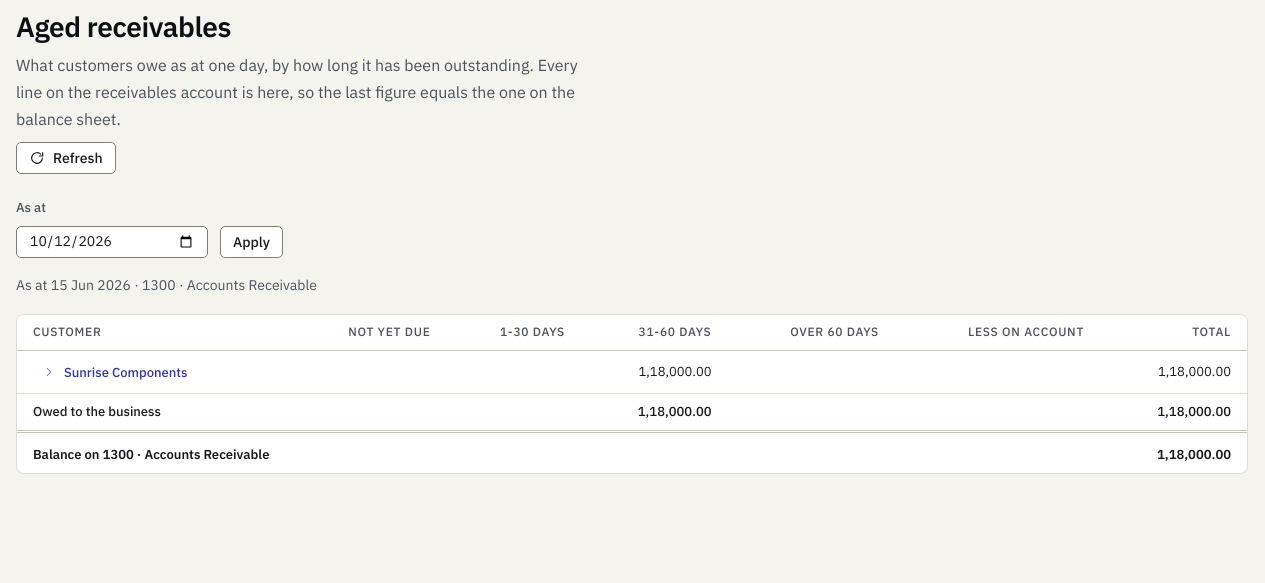
Scenario: a party opened up › shows the items behind the figures
Click the button "Sunrise Components": {"x": 115, "y": 372} [33, 359, 196, 385]
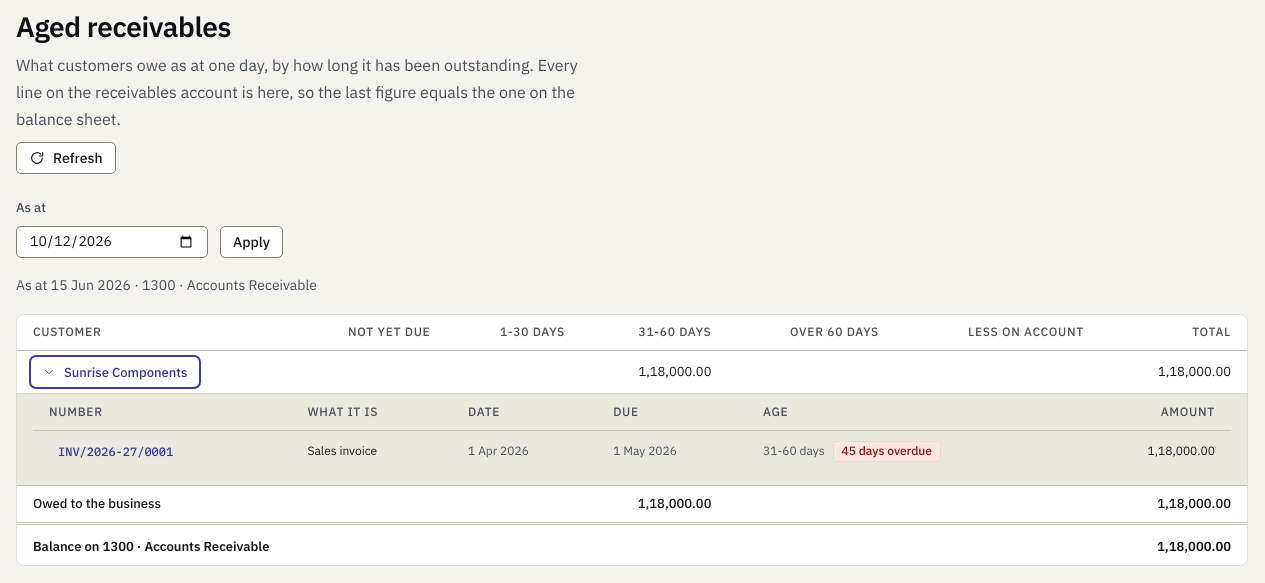
Result: the text "Sales invoice" is shown at [292, 430, 452, 473]
Result: the text "1 May 2026" is shown at [597, 430, 747, 473]
Result: the text "31-60 days" is shown at [763, 442, 824, 461]
